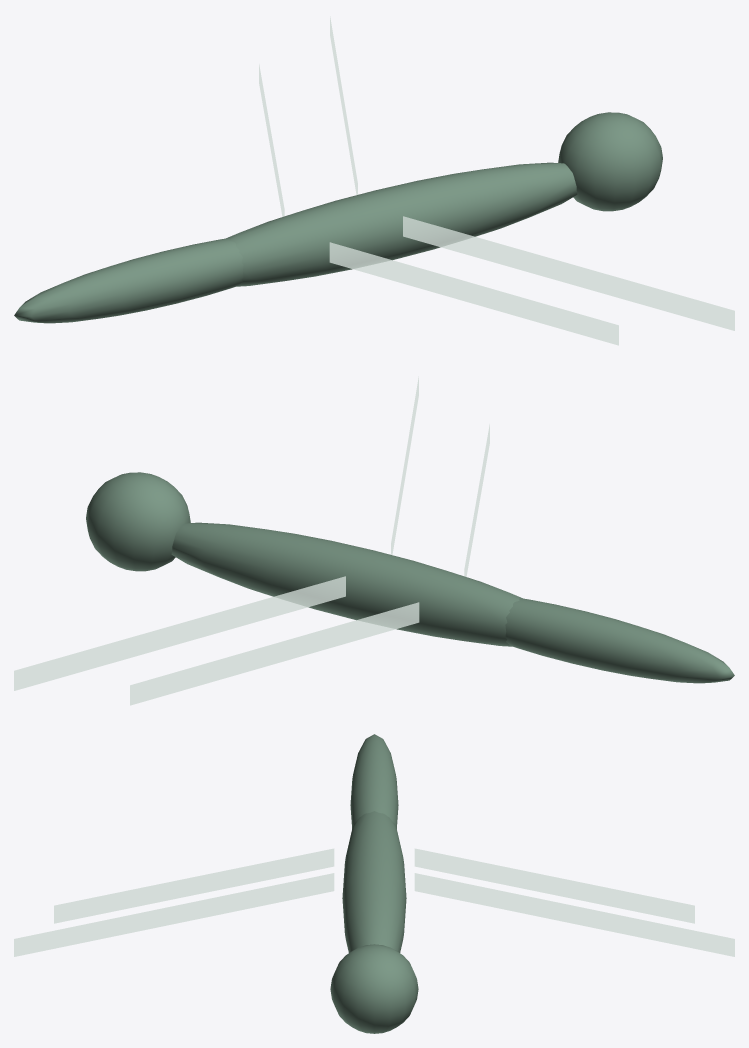
The model's file is dragonfly.glb.
3 renders of one model, top to bottom at view 1: azimuth 30°, elevation 25°; view 2: azimuth 150°, elevation 25°; view 3: azimuth 270°, elevation 25°, orthographic. The views are drawn at different scales.
Visible parts, largest first — view 1: body, tail, head, wing_l1, wing_l2, wing_r1, wing_r2; view 2: body, tail, head, wing_r1, wing_r2, wing_l1, wing_l2; view 3: body, head, wing_l1, wing_r1, wing_l2, wing_r2, tail.
Part boxes in pixels (box(x1,y1,x2,y2)): body: box(226, 162, 577, 286); tail: box(14, 238, 243, 323); head: box(558, 112, 662, 211); wing_l1: box(403, 216, 734, 330); wing_l2: box(329, 242, 618, 345); wing_r1: box(330, 16, 357, 194); wing_r2: box(259, 64, 284, 216); body: box(171, 522, 522, 646); tail: box(505, 598, 734, 683); head: box(86, 472, 190, 571); wing_r1: box(14, 576, 345, 690); wing_r2: box(130, 602, 419, 705); wing_l1: box(391, 376, 418, 554); wing_l2: box(464, 424, 489, 576); body: box(342, 811, 406, 952); head: box(330, 944, 418, 1033); wing_l1: box(14, 873, 334, 956); wing_r1: box(414, 873, 734, 956); wing_l2: box(54, 848, 334, 923); wing_r2: box(414, 848, 694, 923); tail: box(350, 734, 398, 828).
Size of the model in its own units: 0.165 by 0.022 by 0.18.
